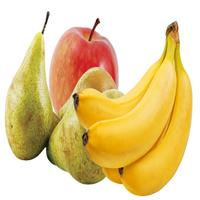apple: (47, 26, 125, 115)
banane: (83, 57, 197, 181)
